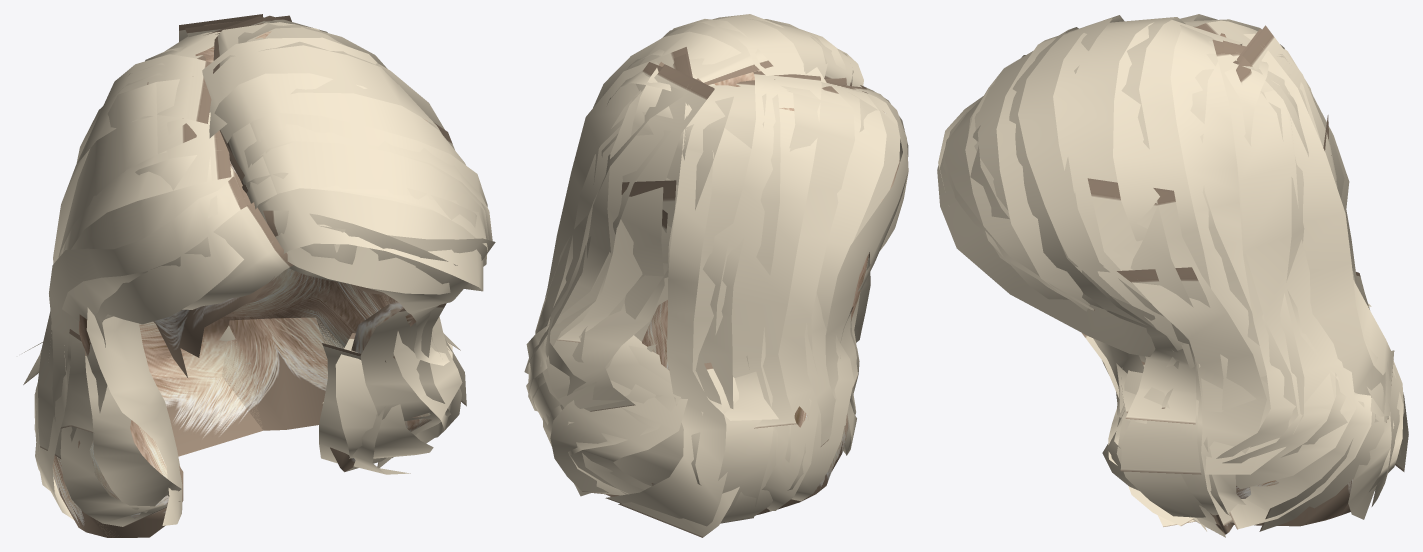
Rendered from hair_006.obj.
3 renders of one model, left to right at view 1: azimuth 30°, elevation 25°; view 2: azimuth 150°, elevation 25°; view 3: azimuth 270°, elevation 25°, orthographic. The views are drawn at different scales.
Bounding box in the file's own units: 22.52 × 29.13 × 26.62.
